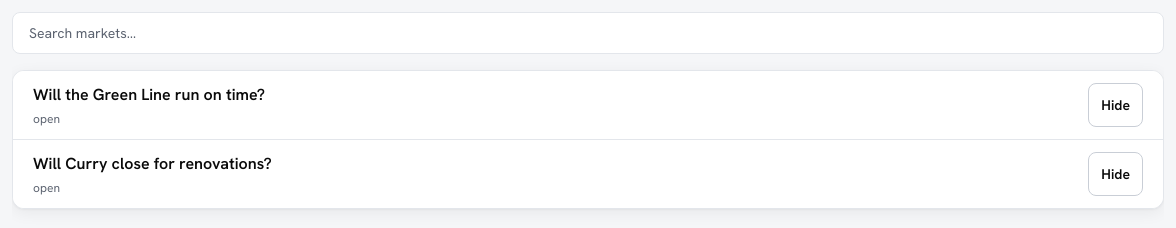
Test: AdminMarketsTable › filters markets by title as the user types
The image size is (1176, 228).
Type "Green" into the search field with placeholder "Search markets…". click: (588, 33)
box: [12,12,1164,54]
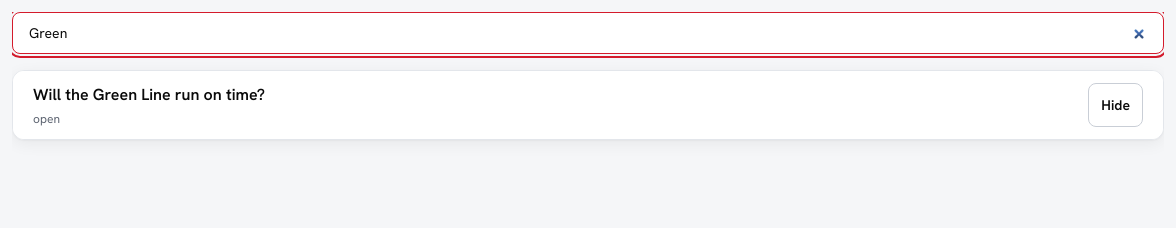
expect the link "Will the Green Line run on time?" is shown: met, box [33,84,265,105]
expect the link "Will Curry close for renovations?" is gone: met
